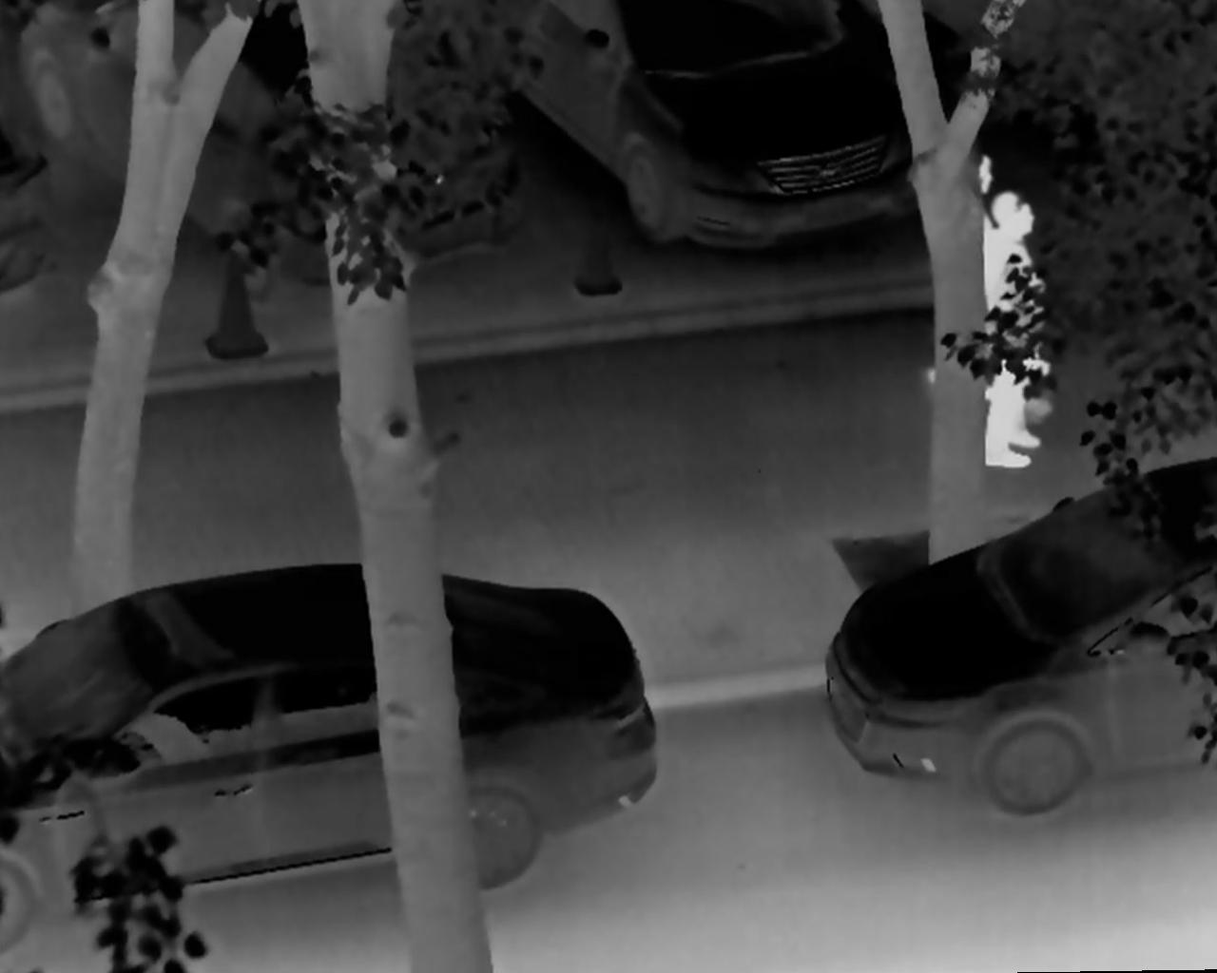person: (923, 155, 1046, 395), (977, 189, 1042, 478)
